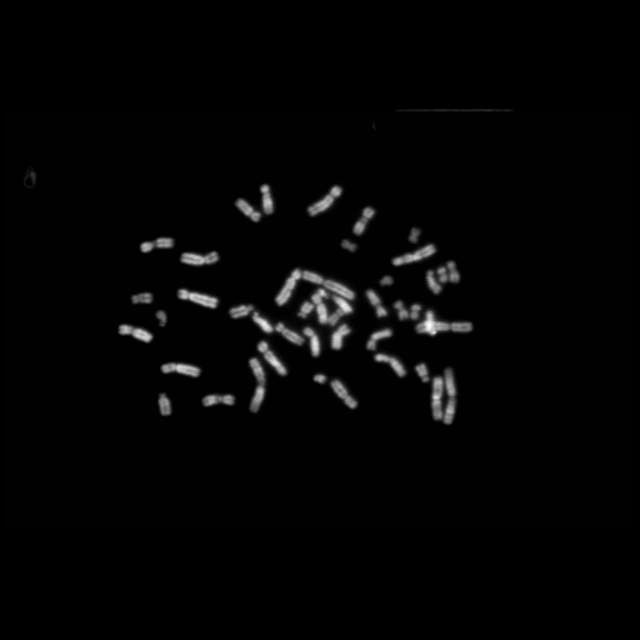chromosome: (302, 270, 354, 300), (308, 186, 342, 216), (258, 341, 286, 375), (276, 269, 300, 305), (249, 358, 265, 412), (394, 245, 436, 265), (331, 379, 357, 408), (375, 354, 405, 378), (177, 289, 217, 307), (444, 368, 456, 424), (276, 323, 304, 345), (416, 322, 474, 332), (236, 198, 260, 222), (120, 325, 152, 343), (354, 207, 374, 235), (366, 289, 386, 317), (161, 364, 199, 378), (431, 376, 443, 419), (182, 251, 218, 265), (368, 330, 392, 350), (304, 328, 320, 357), (140, 238, 173, 252), (313, 295, 329, 323), (332, 325, 350, 349), (203, 394, 234, 406), (332, 295, 352, 313), (254, 312, 272, 332), (261, 186, 273, 214), (230, 304, 253, 318), (428, 270, 440, 294), (158, 394, 170, 416), (396, 300, 408, 320), (426, 311, 436, 335), (132, 293, 152, 305), (416, 363, 428, 382), (329, 308, 343, 324), (299, 302, 313, 318), (449, 262, 459, 282), (408, 226, 419, 244), (342, 240, 356, 252), (438, 267, 448, 283), (410, 304, 420, 320), (156, 310, 166, 326), (380, 276, 392, 286), (320, 289, 330, 299), (314, 374, 324, 382)
